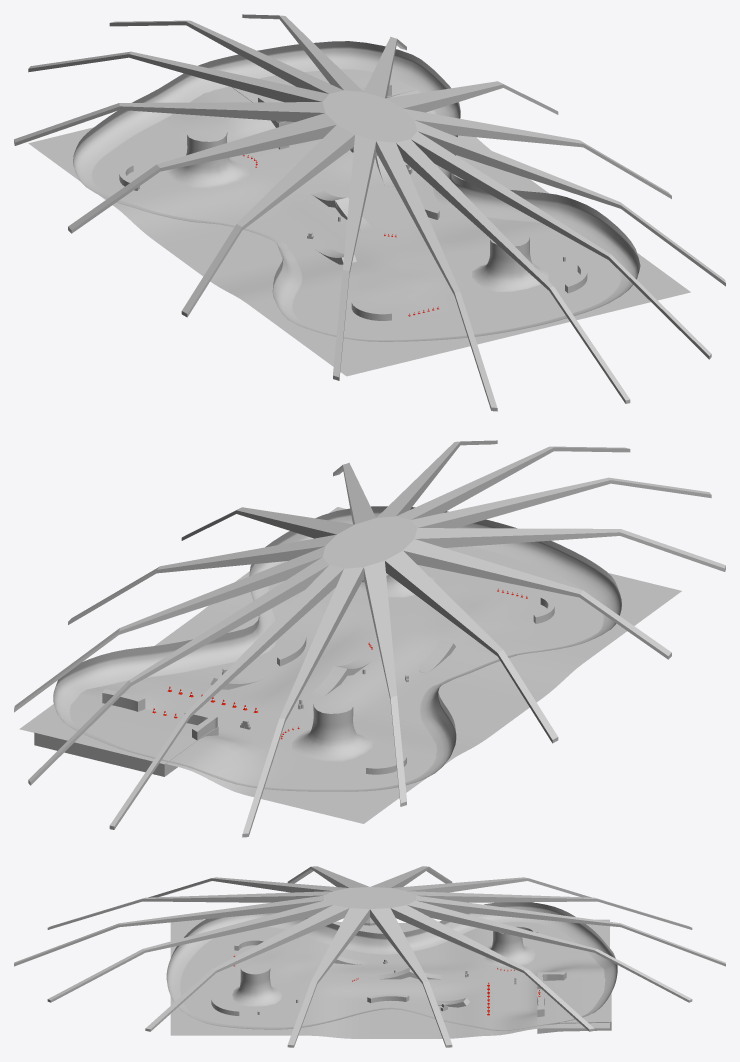
3 renders of one model, top to bottom at view 1: azimuth 30°, elevation 25°; view 2: azimuth 150°, elevation 25°; view 3: azimuth 270°, elevation 25°, orthographic. The views are drawn at different scales.
Visible parts, largest first — view 1: ground, overhead, side, pipe, pipe (1), platform; view 2: ground, overhead, side, platform, pipe; view 3: ground, overhead, side, platform, pipe (1), pipe.
Part boxes in pixels (<box>): ground: <box>28,86,690,376</box>; overhead: <box>14,14,725,411</box>; side: <box>73,41,640,341</box>; pipe: <box>167,132,249,189</box>; pipe (1): <box>472,237,548,291</box>; platform: <box>232,69,416,127</box>; ground: <box>19,507,681,823</box>; overhead: <box>14,440,725,837</box>; side: <box>53,506,621,791</box>; platform: <box>34,693,218,776</box>; pipe: <box>292,704,374,761</box>; ground: <box>170,919,609,1038</box>; overhead: <box>14,866,725,1047</box>; side: <box>166,902,617,1030</box>; platform: <box>537,978,611,1033</box>; pipe (1): <box>232,968,281,1006</box>; pipe: <box>482,928,535,966</box>.
Bounding box in the file's own units: 706 × 173 × 1296.
